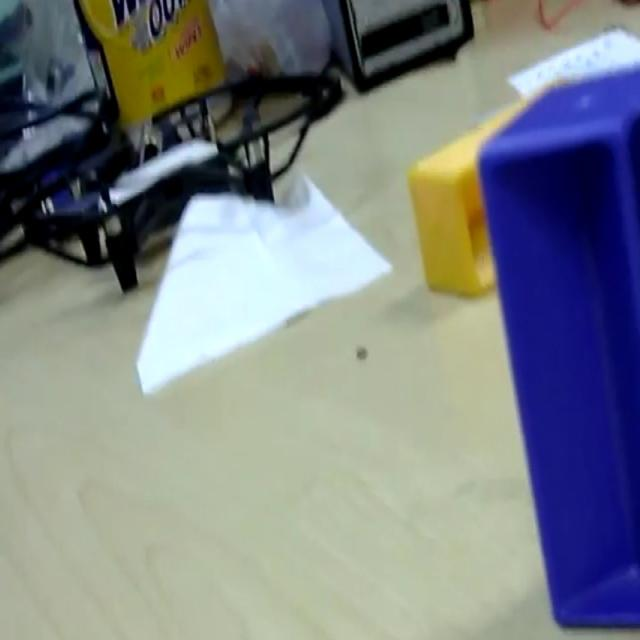blue_block: (476, 59, 638, 628)
